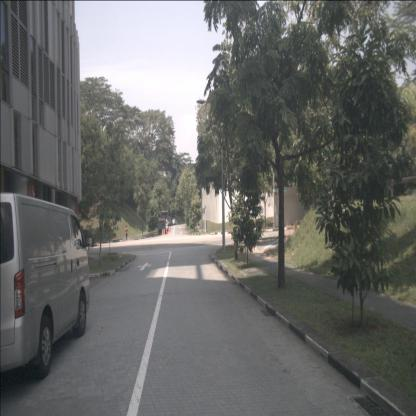cone: (168, 226, 171, 233), (165, 228, 168, 235)
